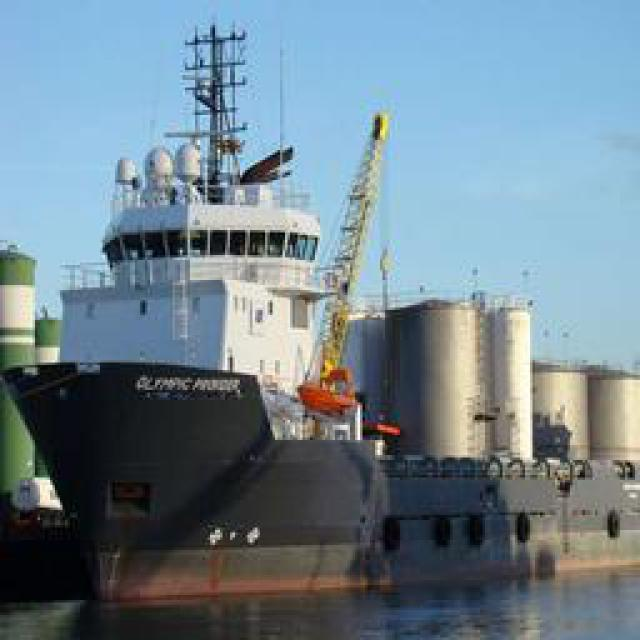Ship: (1, 40, 636, 614)
